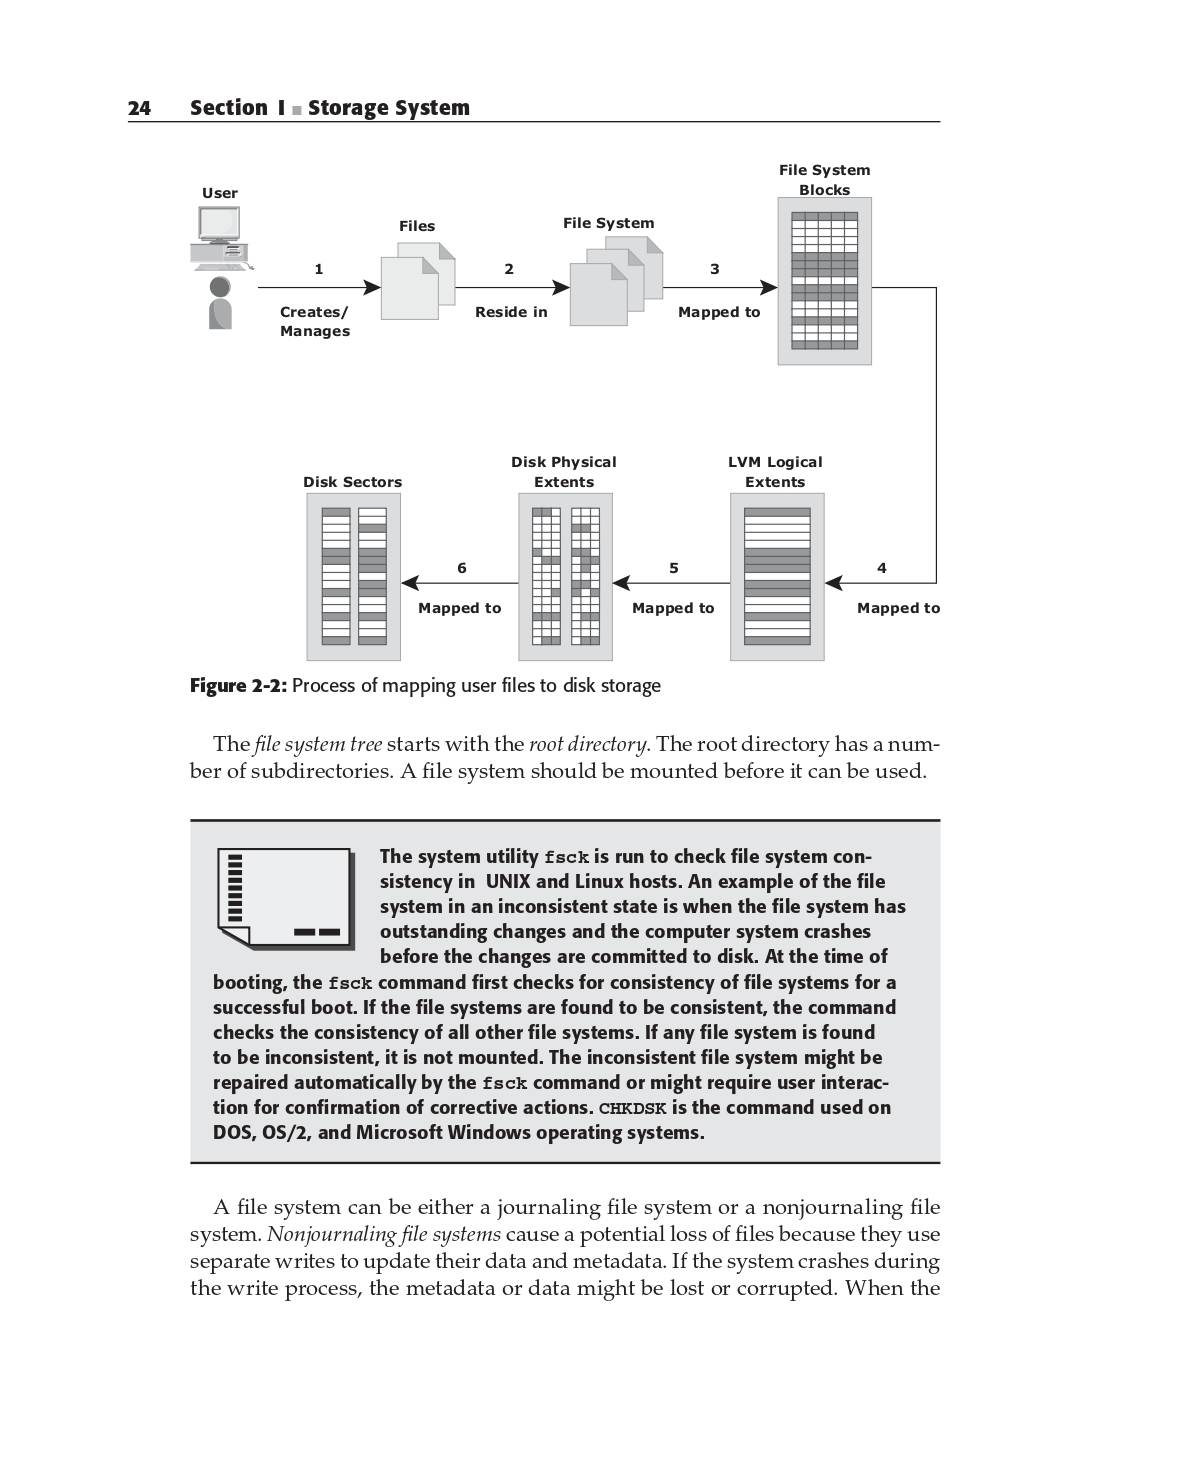Image: (172, 176, 990, 710), (210, 839, 369, 958)
Paragraph: (201, 970, 914, 1154), (181, 1195, 955, 1314), (379, 833, 908, 970), (184, 721, 943, 794)
